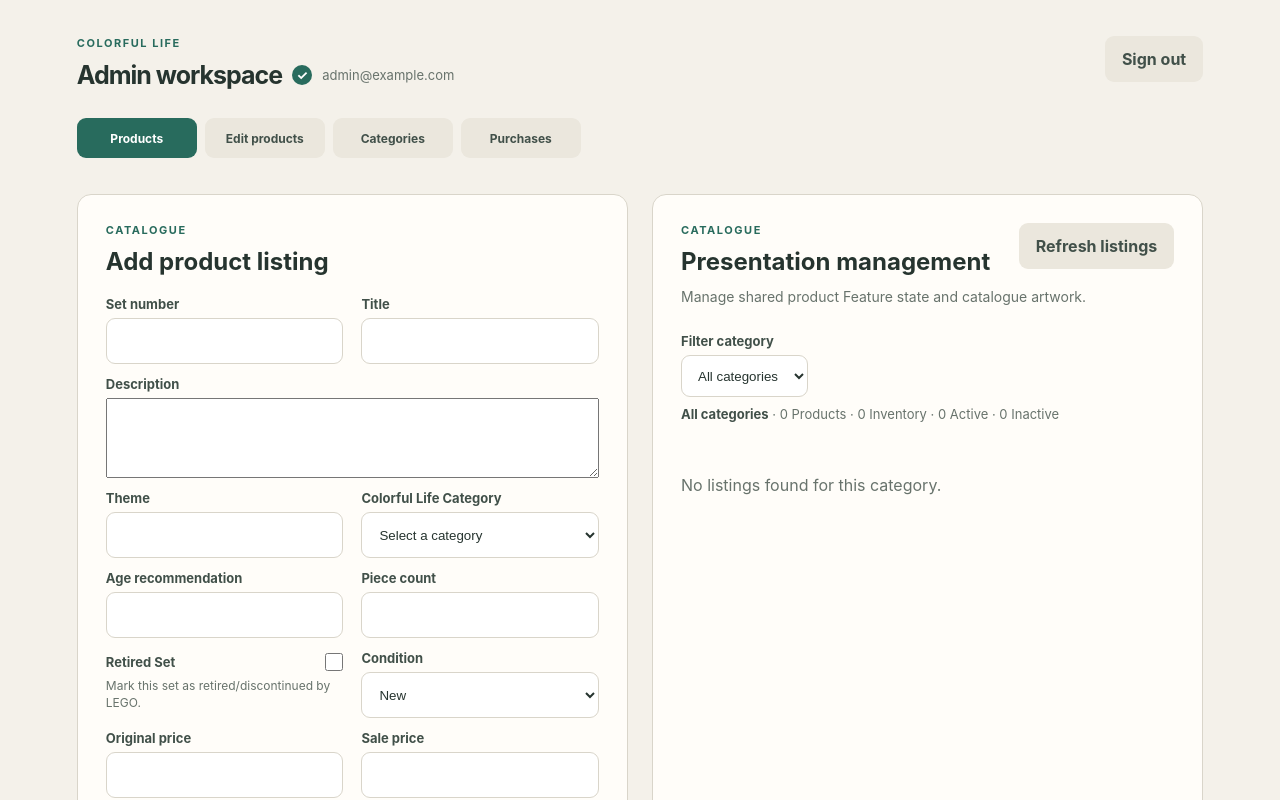
Test: App authentication flow › renders the restored shell and logs out
Expected: the heading "Admin workspace" is shown, x1=77 y1=60 x2=282 y2=90
Expected: the text "admin@example.com" is shown, x1=322 y1=67 x2=454 y2=83
Click the button "Sign out" at coordinates (1154, 59), box x1=1105 y1=36 x2=1203 y2=82
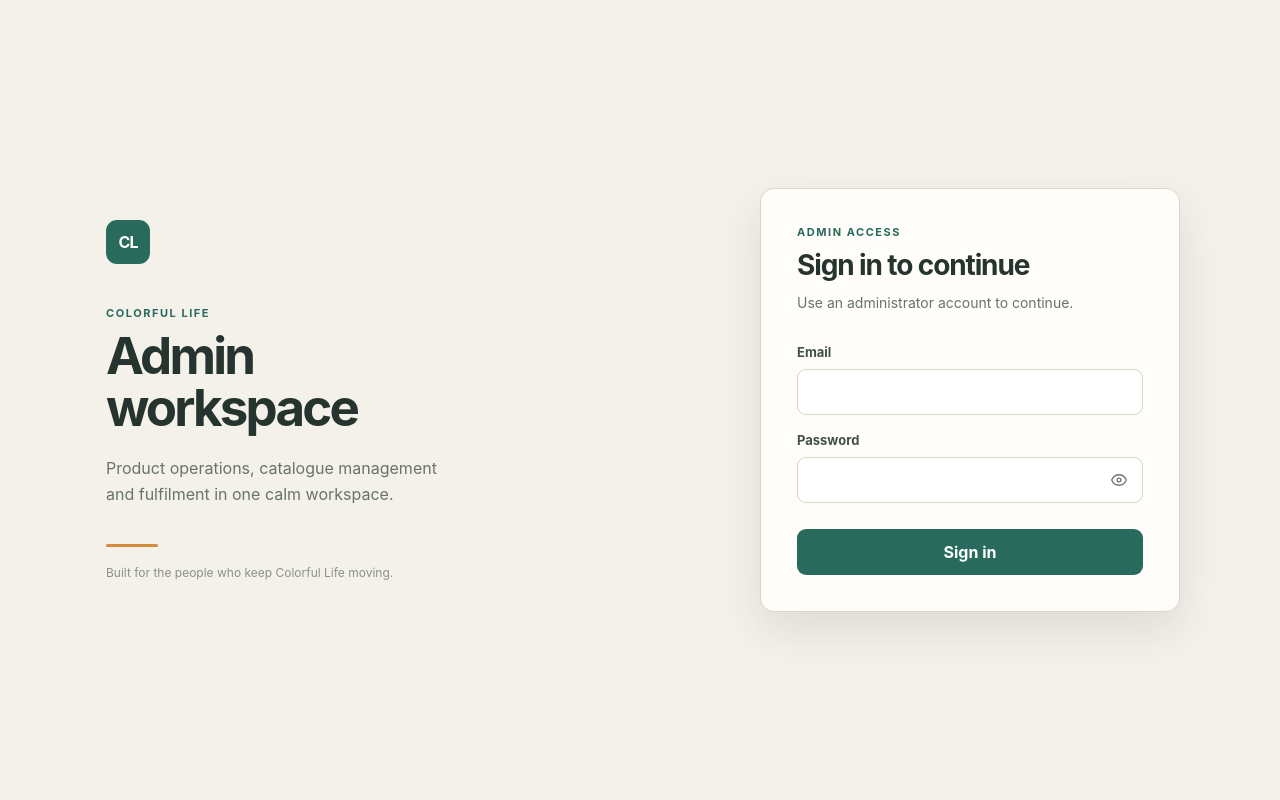
Expected: the heading "Sign in to continue" is shown, x1=797 y1=248 x2=1029 y2=282
